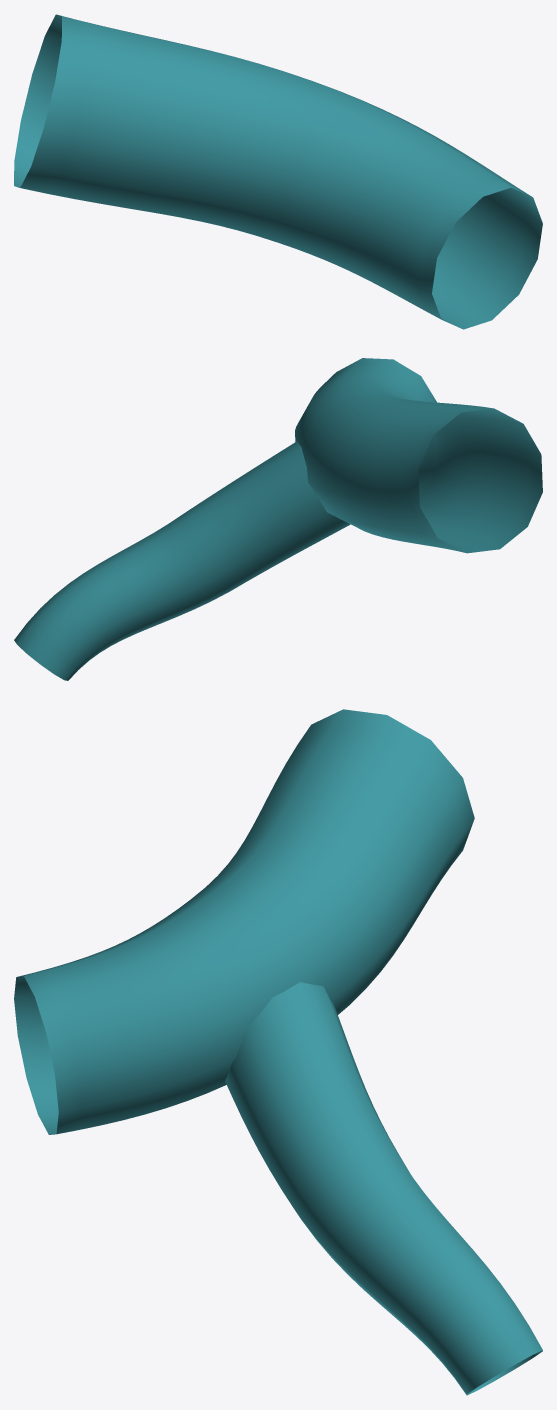
The picture shows the model from 3 angles, top to bottom: view 1: azimuth 30°, elevation 25°; view 2: azimuth 150°, elevation 25°; view 3: azimuth 270°, elevation 25°; orthographic projection. The views are drawn at different scales.
Visible parts, largest first — view 1: 左肺上叶支气管; view 2: 左肺上叶支气管; view 3: 左肺上叶支气管.
Boxes of the visible parts, box(x1,y1,x2,y2) form: 左肺上叶支气管: box(14, 14, 542, 329); 左肺上叶支气管: box(14, 358, 542, 680); 左肺上叶支气管: box(14, 709, 542, 1395).
Bounding box in the file's own units: 0.0685 × 0.047 × 0.0513.
